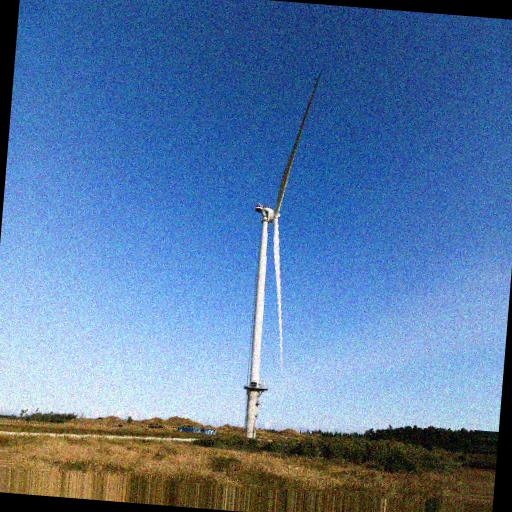wind turbine: (242, 64, 325, 438)
